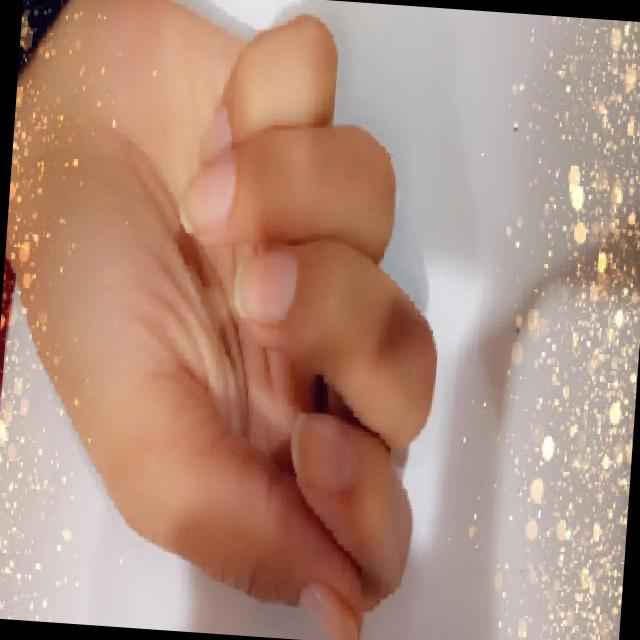Nail: (290, 413, 353, 492), (233, 252, 295, 322), (181, 154, 235, 232), (300, 582, 357, 640), (202, 107, 230, 158)
